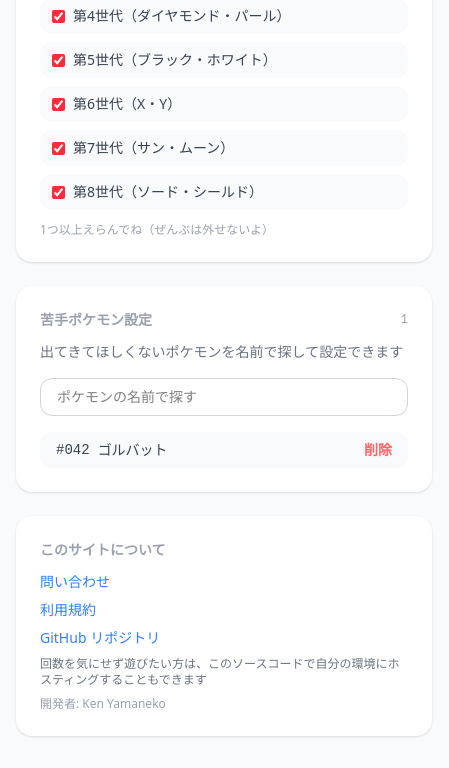
[設定] 苦手ポケモン設定 › 異常系 › ゴルバット (図鑑番号 42) を除外済みの状態で、「ゴル」と入力して検索結果の「ゴルバット」を選んだとき › 除外ポケモンの一覧の「#042」が 1 件のままになる
The image size is (449, 768).
(page scrolled)
Expected: the text "#042" is shown, [56,440,90,460]
Type "ゴル" into the field with placeholder "ポケモンの名前で探す".
click(224, 397); type("ゴル")  # box [40,378,408,416]
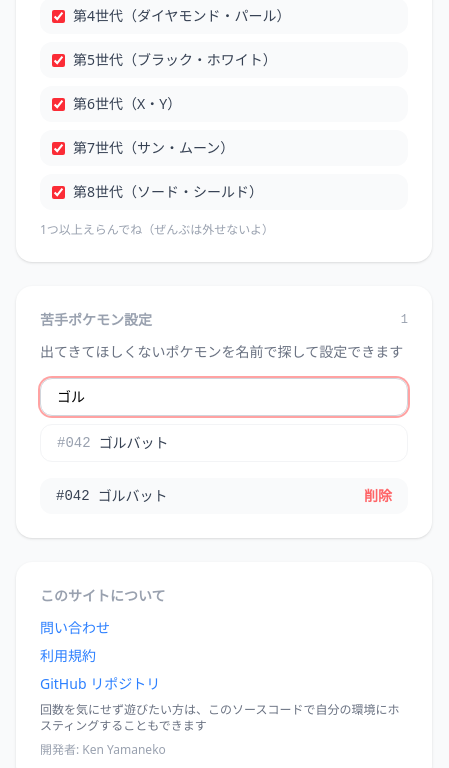
Click the button "#042 ゴルバット".
click(134, 442)  # box [41,425,407,461]
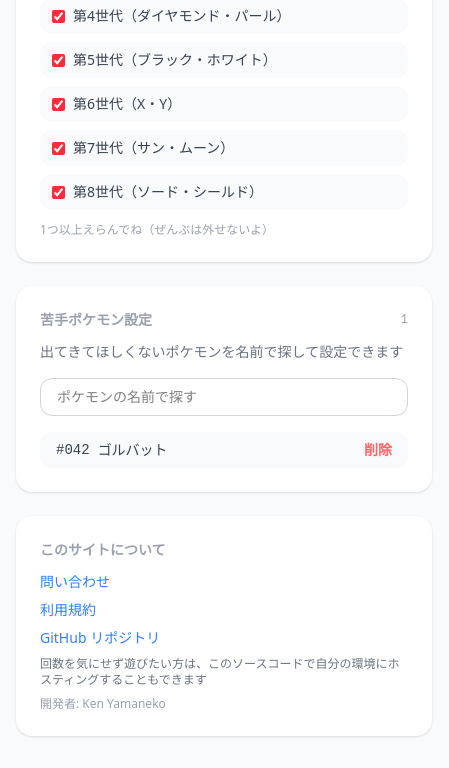
Expected: the text "#042" is shown once, [56,440,90,460]
